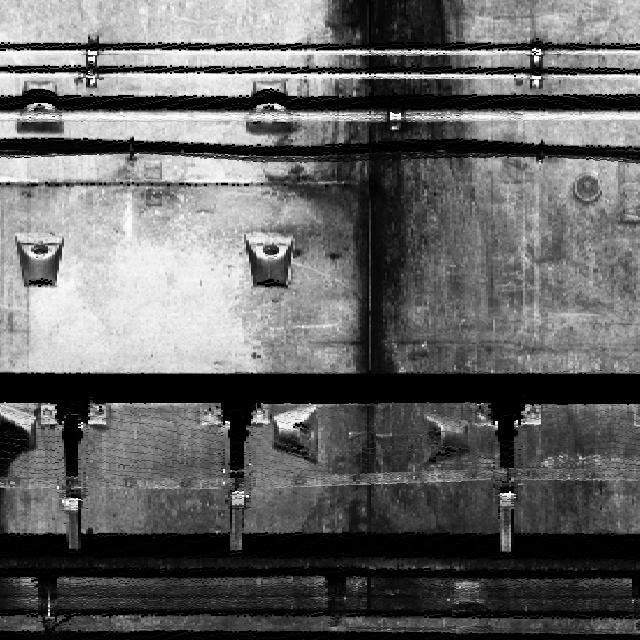leakage: (277, 0, 481, 373), (296, 402, 449, 639)
